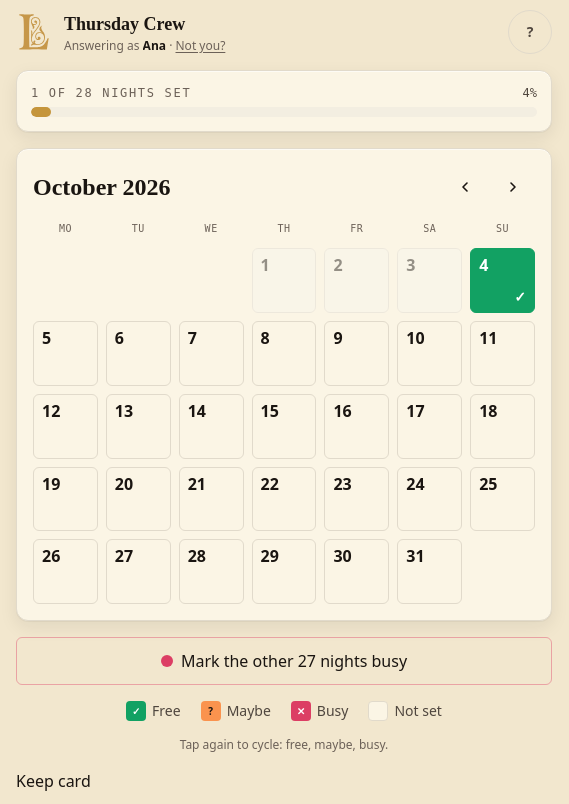
PlayerCalendar asks a visitor who finishes the month to keep their sessions › turns the done card into the Keep your sessions card, confirmation first and focused
The image size is (569, 804).
Expected: the text "Keep card" is shown, [16, 770, 91, 792]
Click the button "Mark the other 27 nights busy" at (284, 661), box [16, 637, 552, 685]
(page scrolled)
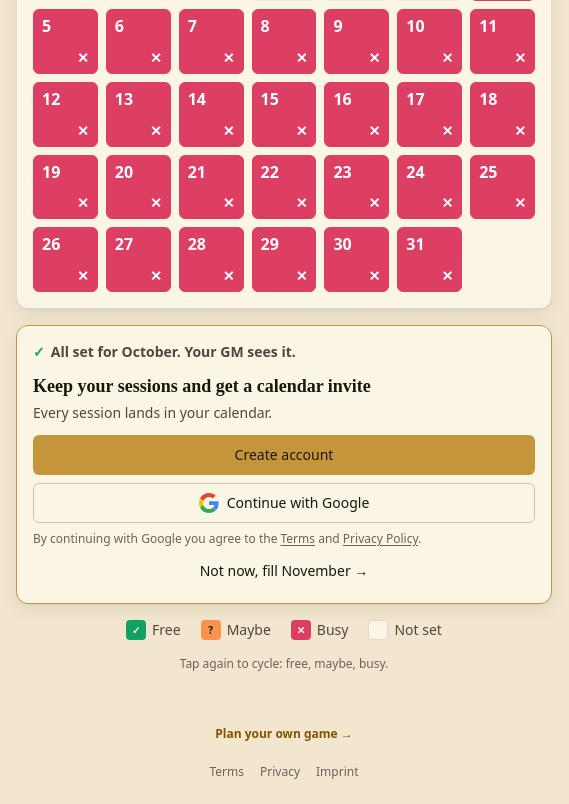
Result: the heading "Keep your sessions and get a calendar invite" is shown at [33, 376, 371, 396]
Result: the text "Every session lands in your calendar." is shown at [33, 403, 272, 422]
Result: the buttons read "Create account", "Continue with Google", "Not now, fill November →", in this order at [33, 435, 535, 475]; [33, 483, 535, 523]; [188, 555, 380, 587]
